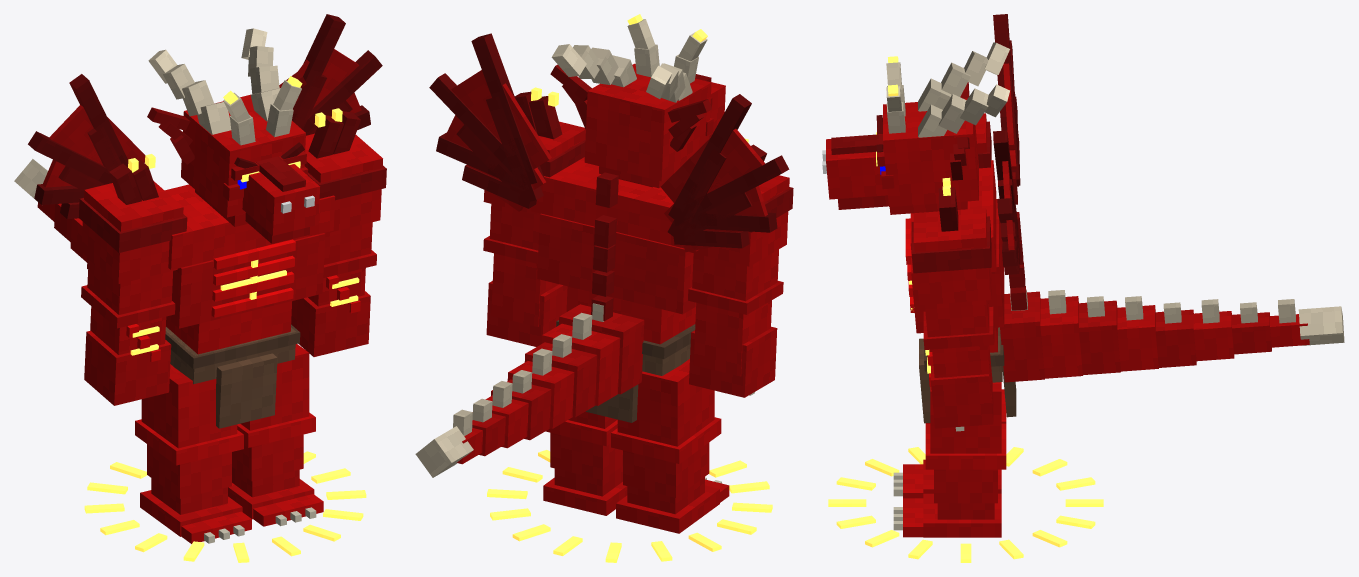
Rendered from dragonoid_s0_evo3.glb.
3 views of the same model, side by side, from view 1: azimuth 30°, elevation 25°; view 2: azimuth 150°, elevation 25°; view 3: azimuth 270°, elevation 25° (orthographic). The views are drawn at different scales.
Visible parts, largest first — view 1: Torso, Head, ArmR, ArmL, LegR, LegL, Root; view 2: Torso, Head, ArmR, LegR, ArmL, LegL, Root; view 3: Torso, Head, ArmL, LegL, Root, LegR, ArmR.
Boxes of the visible parts, x1,y1,x2,y2 form: Torso: (14,14,382,428); Head: (147,28,320,243); ArmR: (78,154,187,405); ArmL: (291,108,386,356); LegR: (135,364,251,543); LegL: (228,344,323,526); Root: (84,451,366,562); Torso: (415,33,789,477); Head: (550,14,725,188); ArmR: (688,138,793,397); LegR: (611,359,729,533); ArmL: (483,87,585,346); LegL: (543,411,627,515); Root: (487,450,772,562); Torso: (905,14,1344,423); Head: (822,42,1009,214); ArmL: (911,177,994,431); LegL: (903,382,1006,537); Root: (828,447,1103,562); LegR: (903,389,1006,498); ArmR: (975,113,991,168).
Size of the model in its own units: 1.65 by 2.05 by 2.2.
32 materials, 32 textured.
